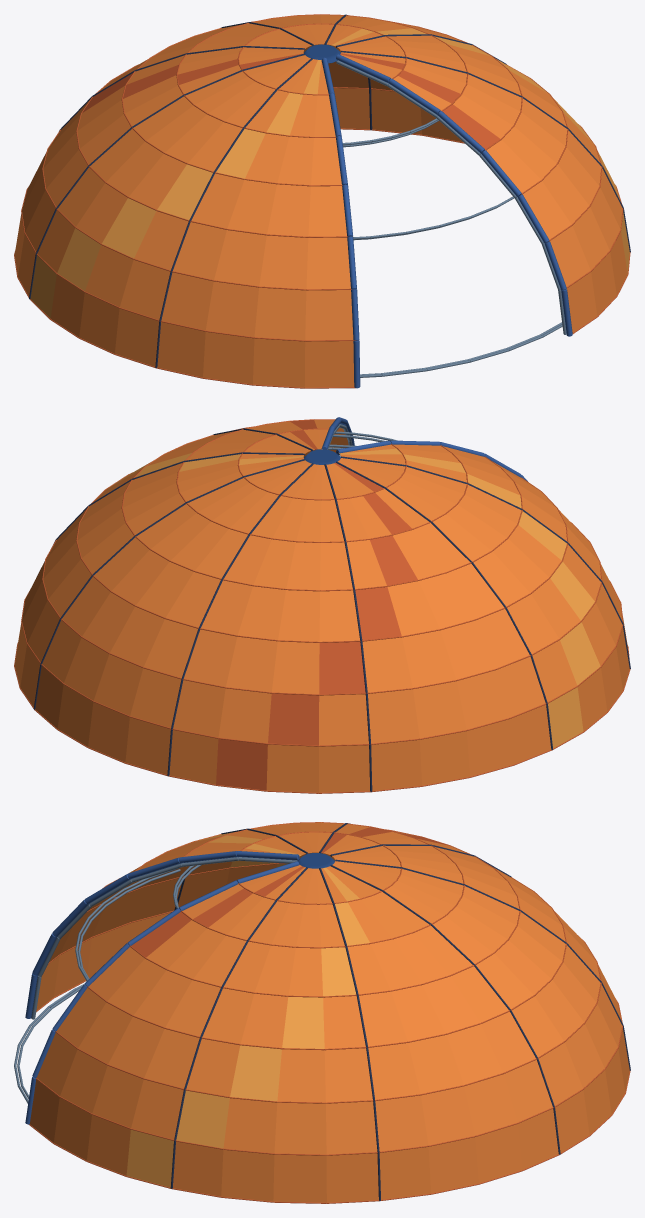
The model's file is dome.glb.
3 renders of one model, top to bottom at view 1: azimuth 30°, elevation 25°; view 2: azimuth 150°, elevation 25°; view 3: azimuth 270°, elevation 25°, orthographic.
Parts seen in each view (by area): view 1: dome.001; view 2: dome.001; view 3: dome.001.
Boxes of the visible parts, box(x1,y1,x2,y2) form: dome.001: box(14, 14, 630, 388); dome.001: box(14, 417, 630, 793); dome.001: box(14, 822, 630, 1203).
Bounding box in the file's own units: 23.13 × 8.67 × 22.7.
